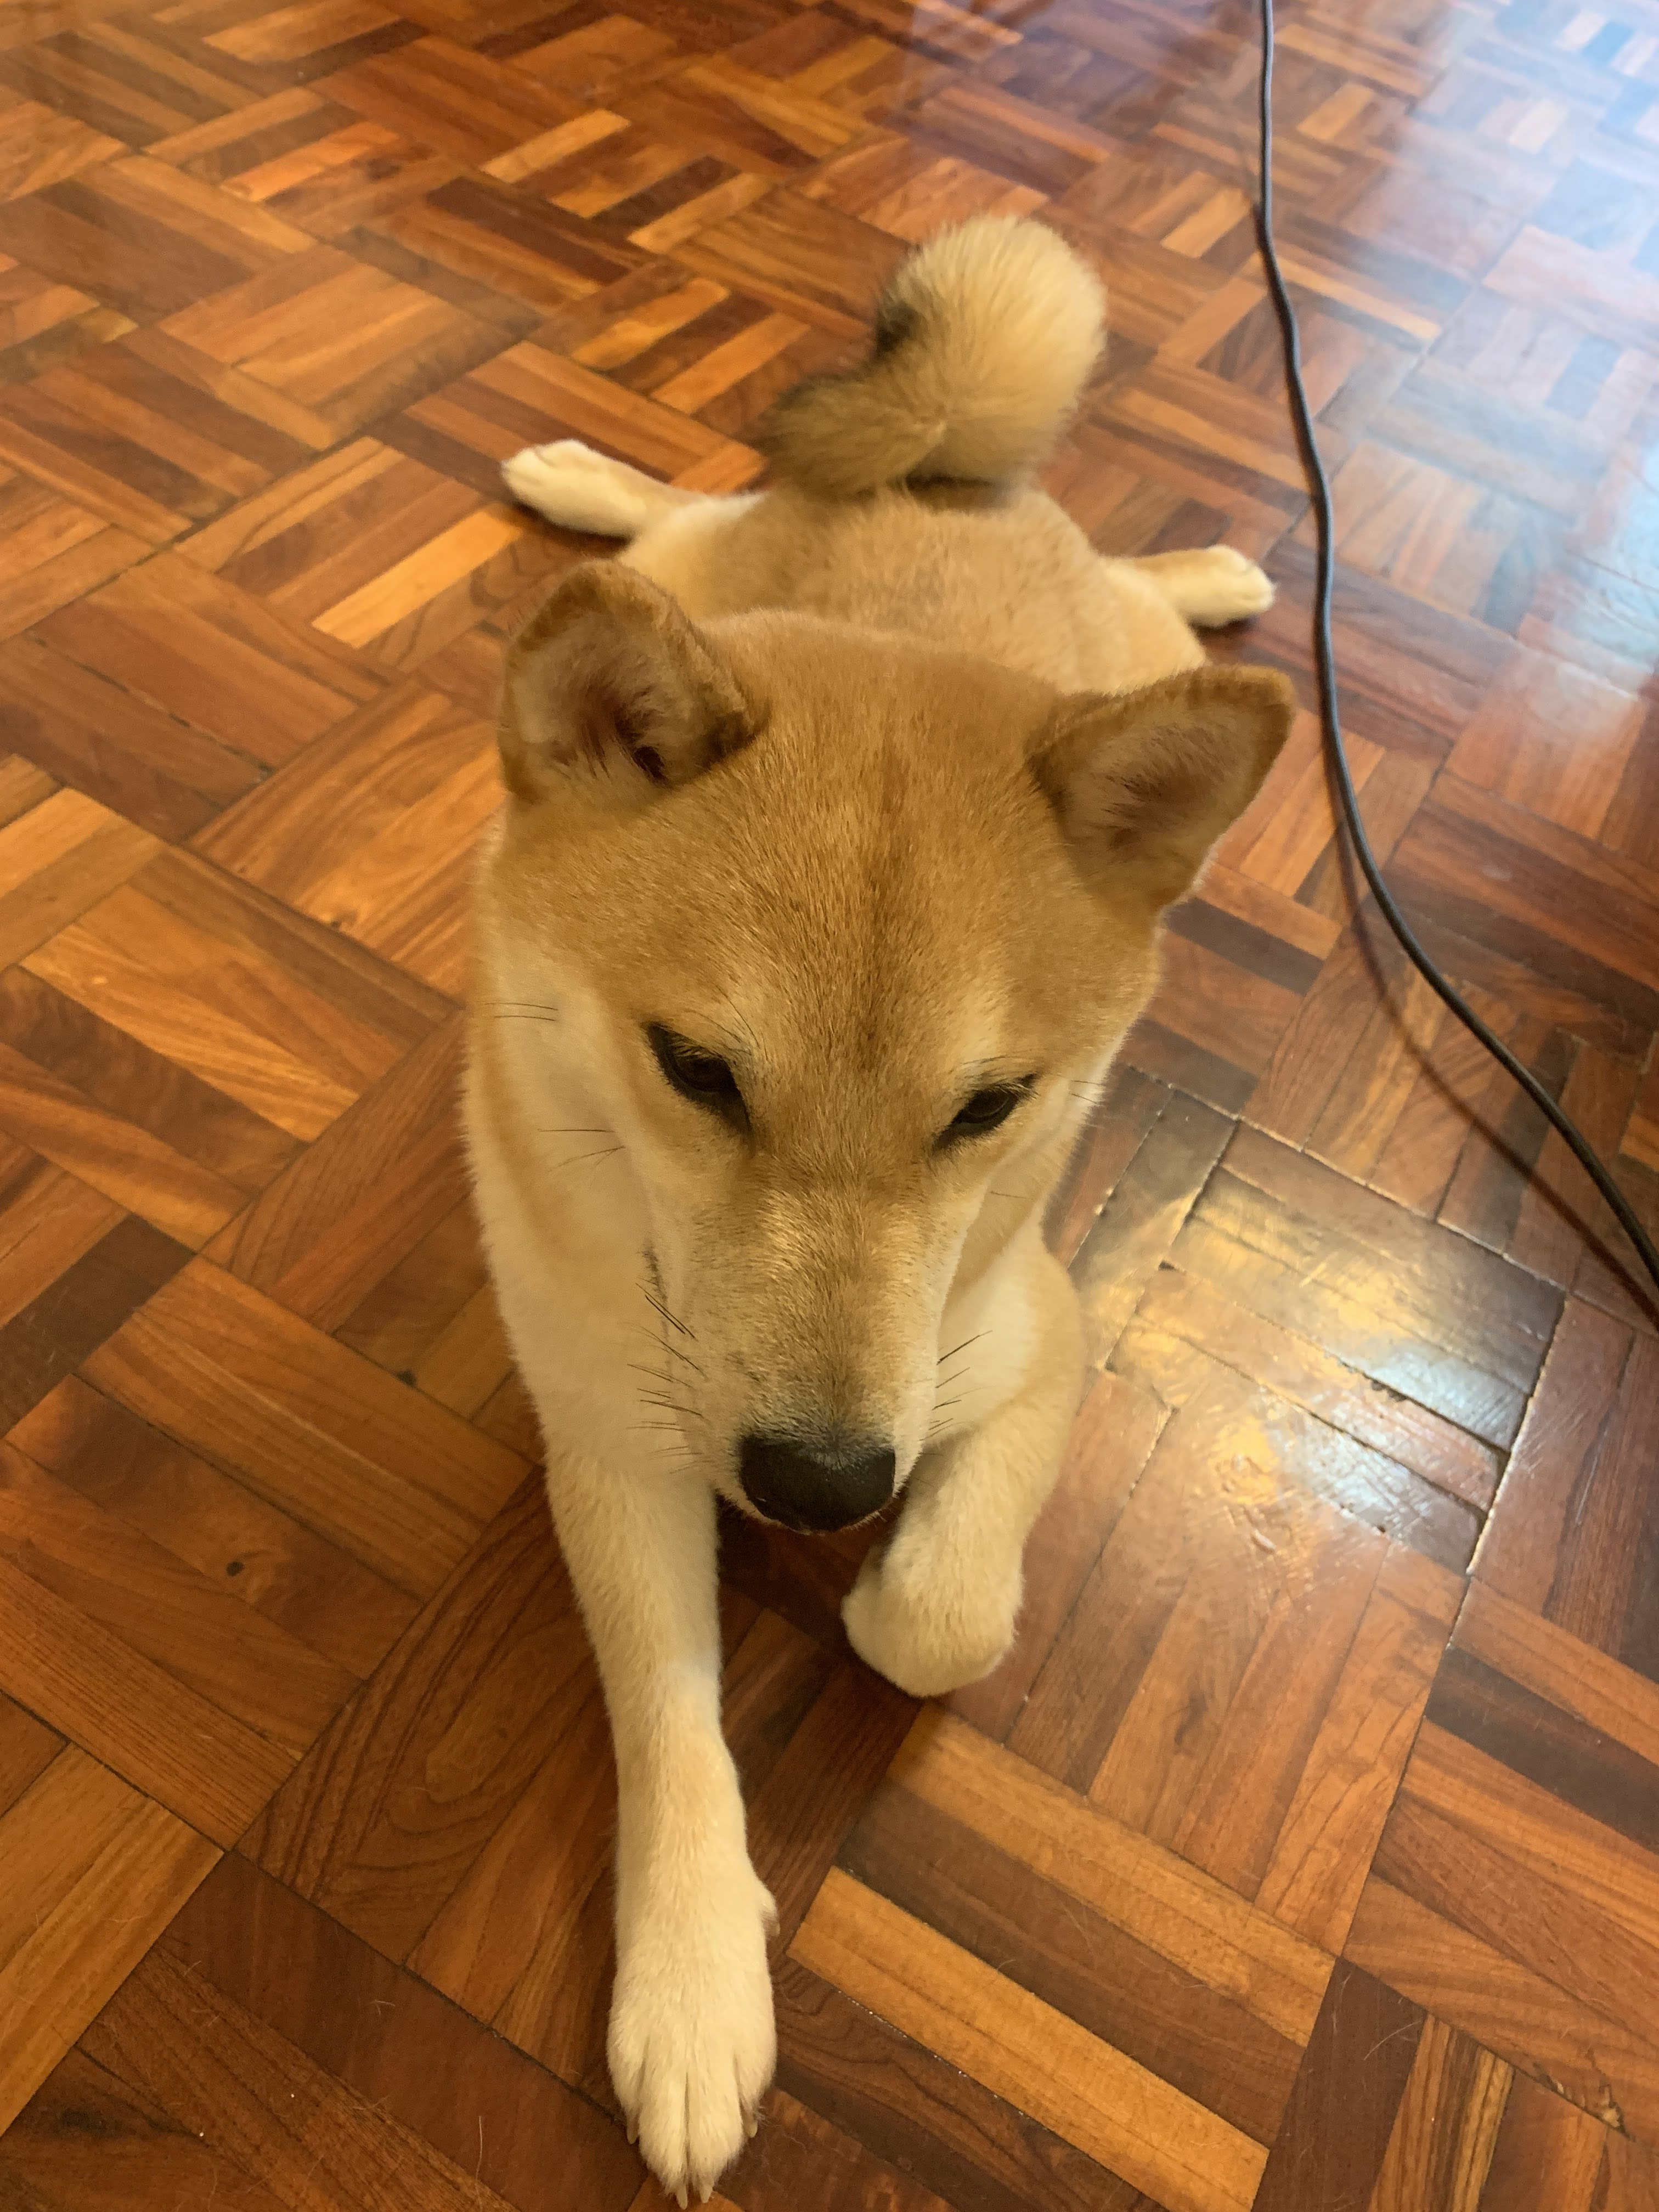Get down: (399, 192, 1304, 2188)
